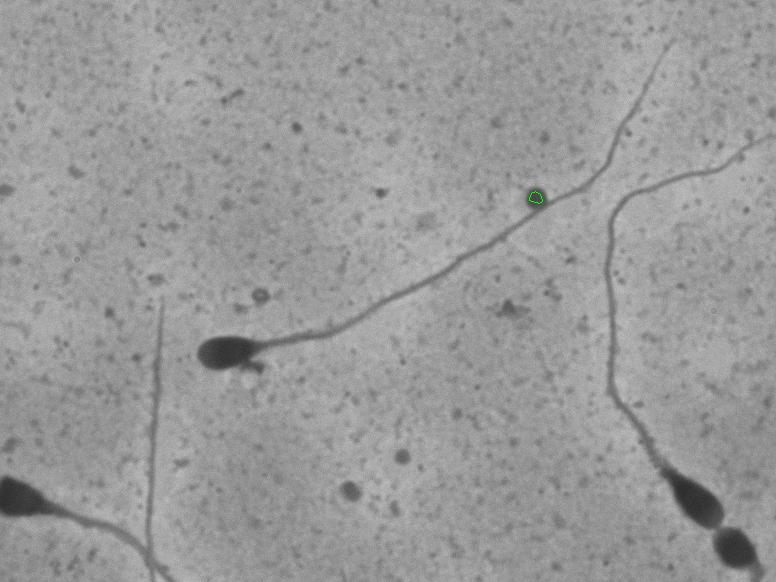Abnormal: (575, 132, 761, 540)
Normal: (174, 22, 703, 395)
